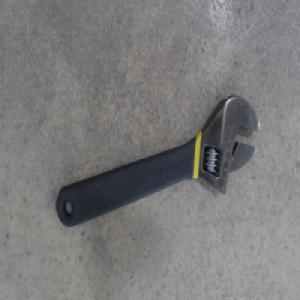AdjustableWrench: (54, 95, 259, 229)
